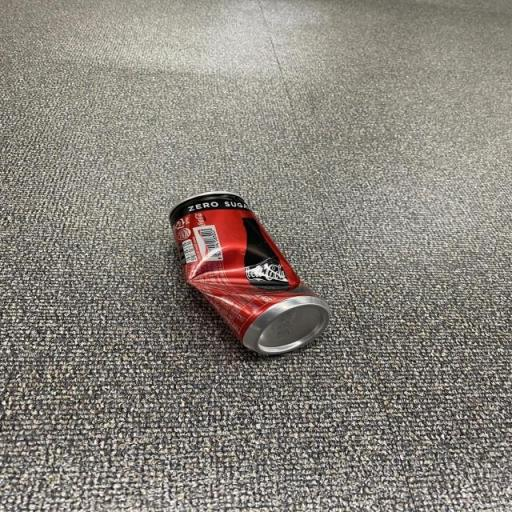metal: (155, 158, 360, 367)
